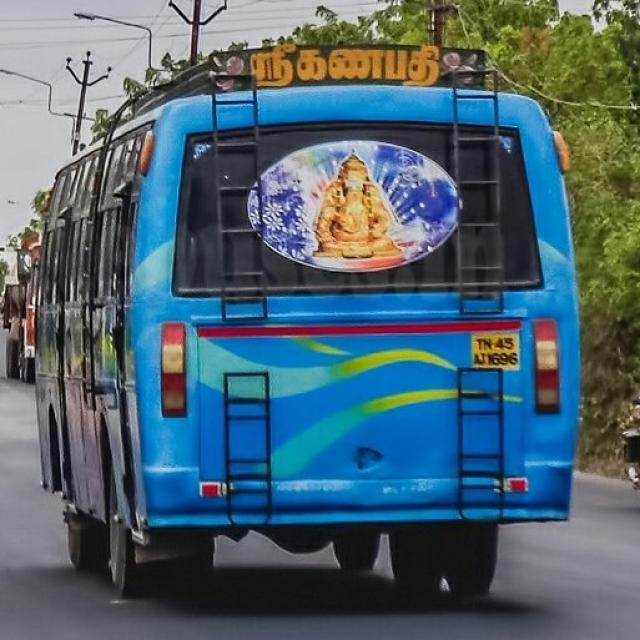Bus: (16, 41, 585, 601)
